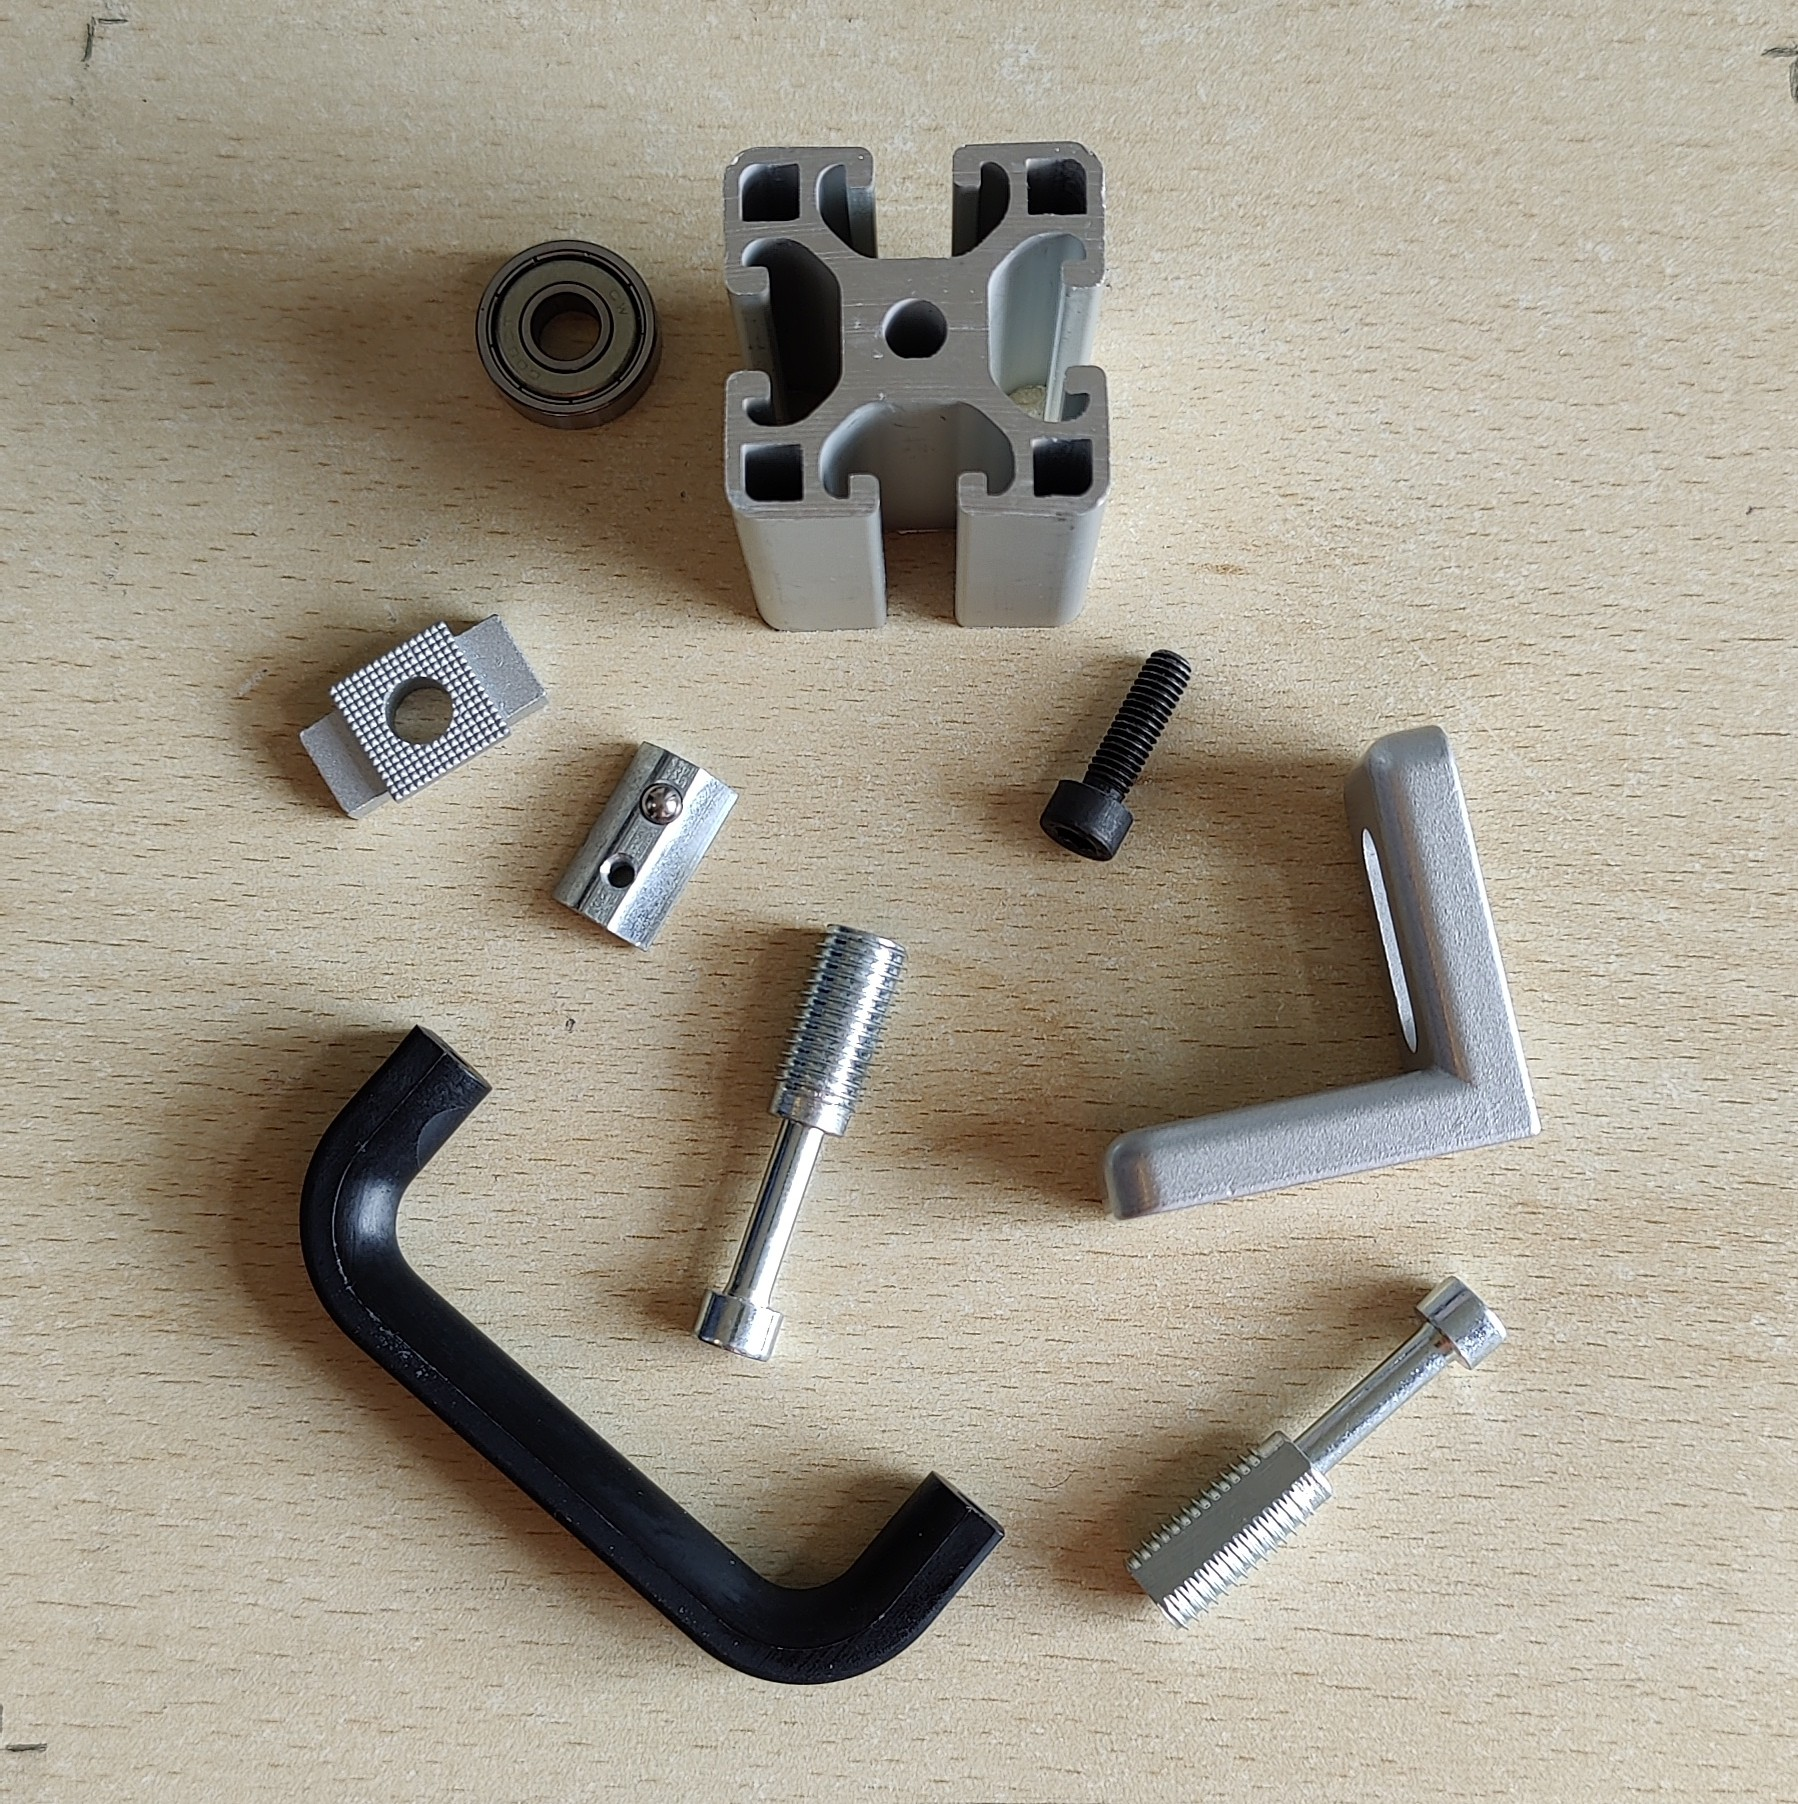Aluminium Extension: (718, 137, 1115, 635)
Ball Bearing: (473, 235, 665, 431)
Multiwinkel: (1098, 723, 1548, 1221)
Pull Handle: (295, 1019, 1008, 1685)
Shoulder Socket Head Cap Screw: (1125, 1274, 1510, 1634), (692, 917, 911, 1366)
Socket Head Cap Screw: (1037, 647, 1195, 864)
T Nut Square: (300, 611, 550, 823)
T Spring Nut: (548, 736, 743, 953)
